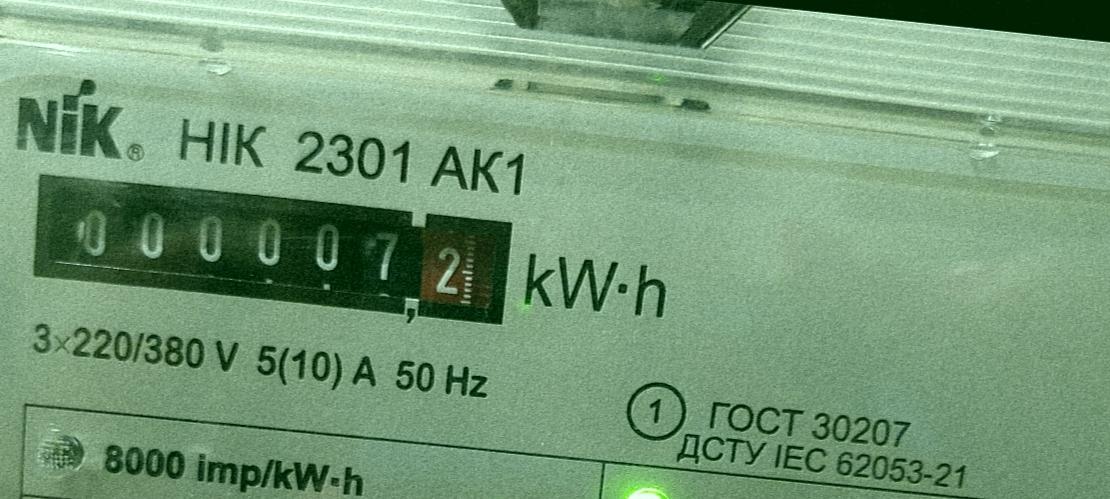0: (133, 206, 173, 261), (193, 209, 230, 265), (251, 213, 288, 269), (309, 219, 346, 275), (77, 205, 114, 258)
2: (431, 243, 466, 297)
7: (367, 227, 402, 284)
screen: (10, 152, 535, 346)
